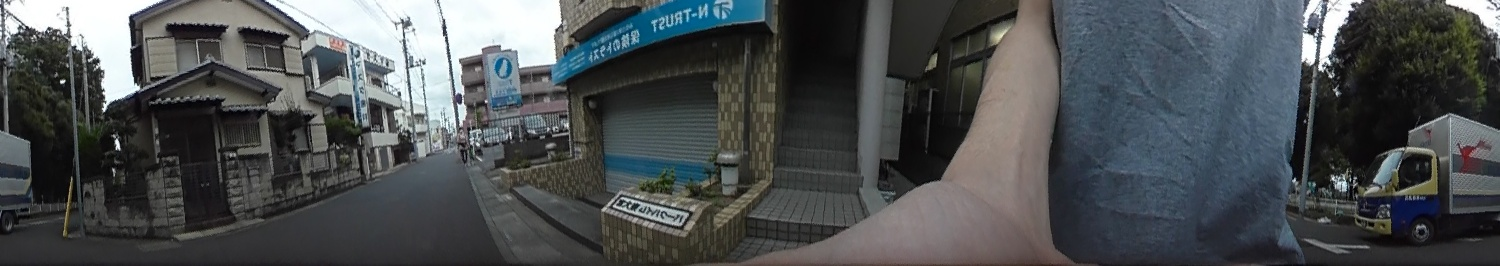difficult_person: (453, 125, 472, 163)
